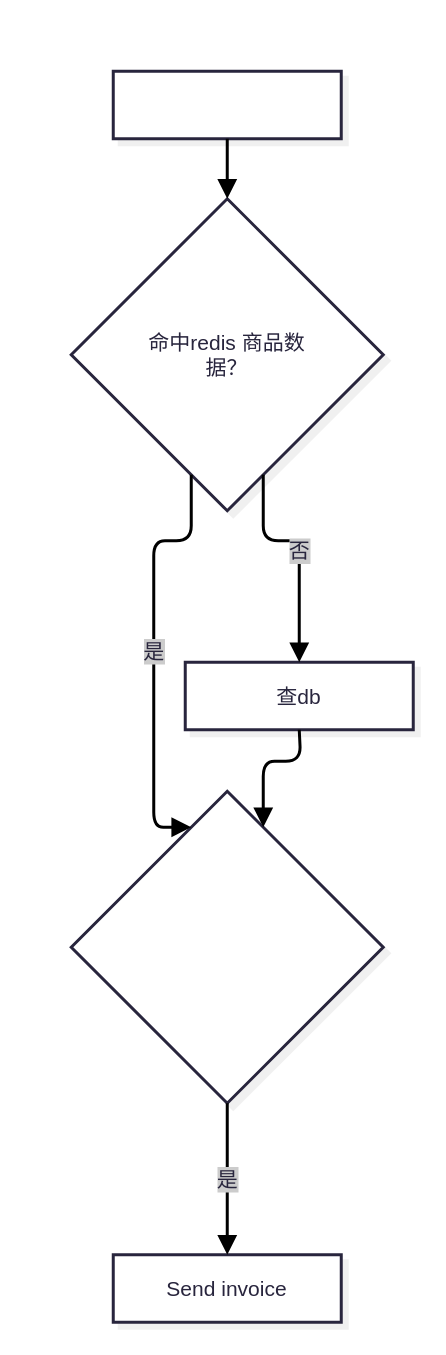
Image size: 446x1355. Some labels were removed from this diagram. Here are the shapes that lost their labels. From the top down, the centre of each, then its label:
At point (229, 107): "查商品数据".
At point (229, 949): "db 有商品数据?".
